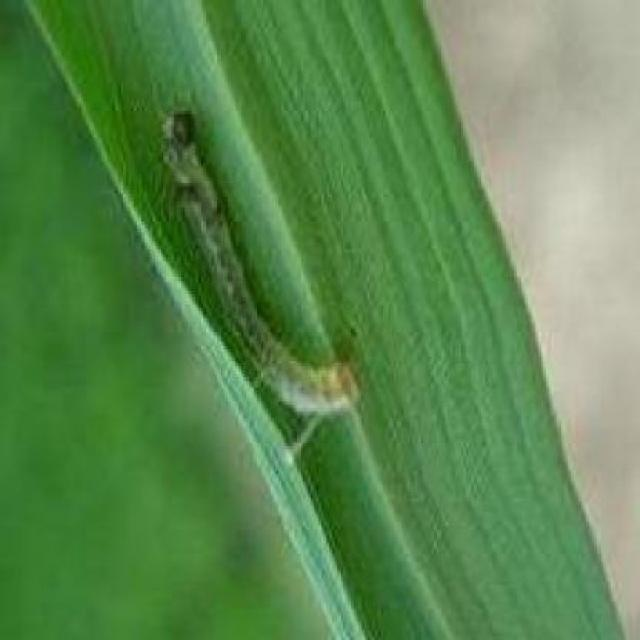leaf-folder: (154, 96, 374, 467)
